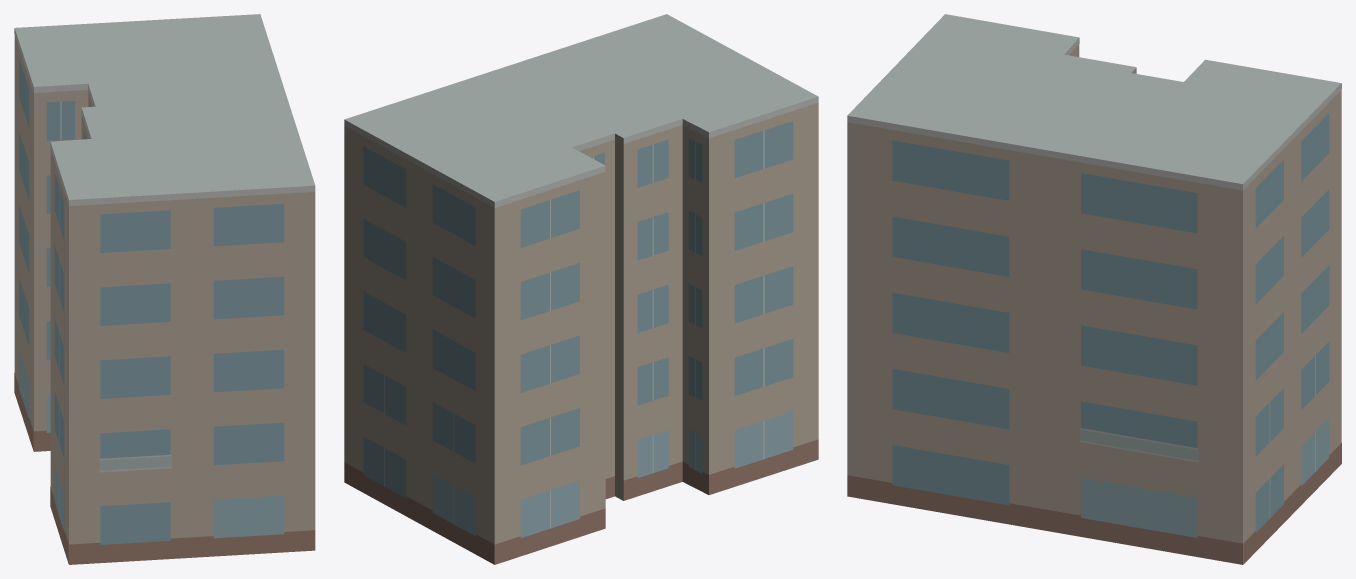
Rendered from survey-upis-32581071.glb.
3 views of the same model, side by side, from view 1: azimuth 30°, elevation 25°; view 2: azimuth 150°, elevation 25°; view 3: azimuth 270°, elevation 25° (orthographic). The views are drawn at different scales.
Parts seen in each view (by area): view 1: survey-upis-32581071.tmp; view 2: survey-upis-32581071.tmp; view 3: survey-upis-32581071.tmp.
Part boxes in pixels (x1,y1,x2,y2): survey-upis-32581071.tmp: (14, 14, 315, 564); survey-upis-32581071.tmp: (344, 14, 818, 564); survey-upis-32581071.tmp: (847, 14, 1341, 564).
Size of the model in its own units: 13.91 by 14.5 by 17.08.
